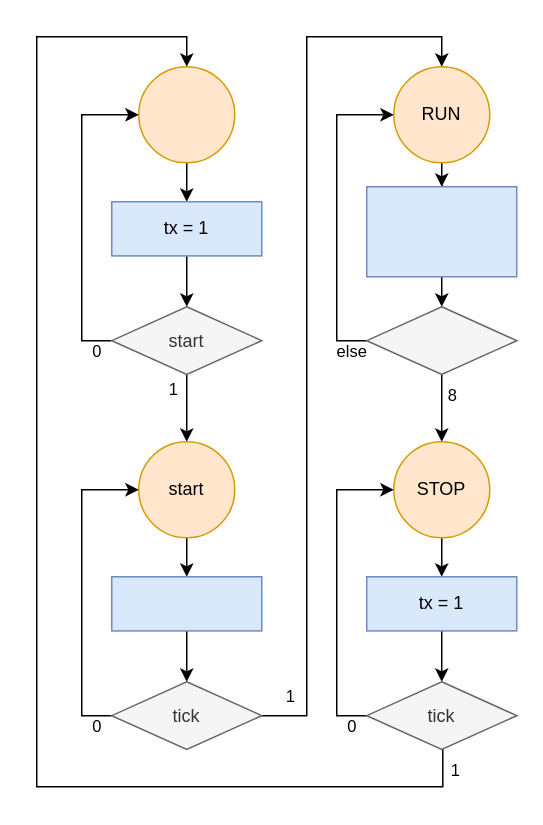
Image size: 543x825. Some labels were removed from this diagram. The centre of each missing label's shape, as x and y in pixels:
count: the point at 441,340
DATA[count] count = count + 1: the point at 441,231
idle: the point at 186,114
tx = 0: the point at 186,603
